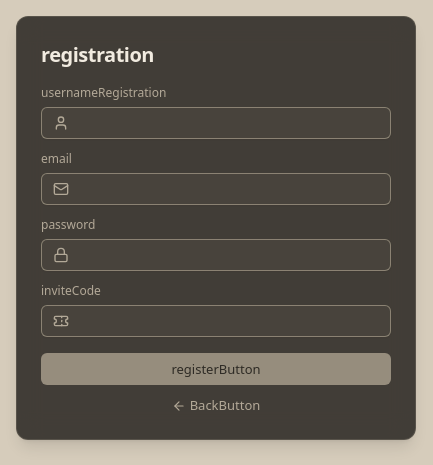
Test: Registration outcomes › replaces the form with the check-your-mail notice
Type "reader" into the field labelled "usernameRegistration" at (216, 123), box x1=41 y1=107 x2=391 y2=139
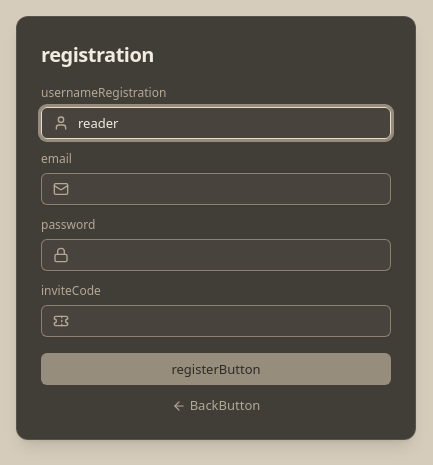
Type "reader@example.com" into the field labelled "email" at (216, 189), box x1=41 y1=173 x2=391 y2=205
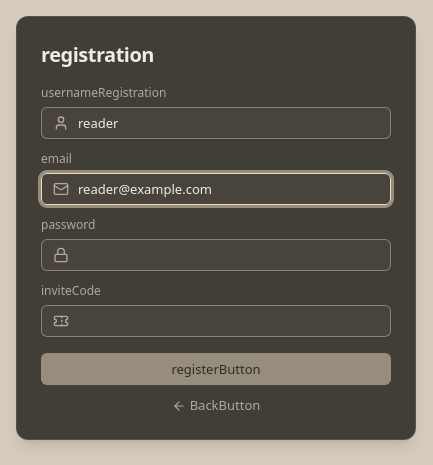
Type "secret" into the password field labelled "password" at (216, 255), box x1=41 y1=239 x2=391 y2=271
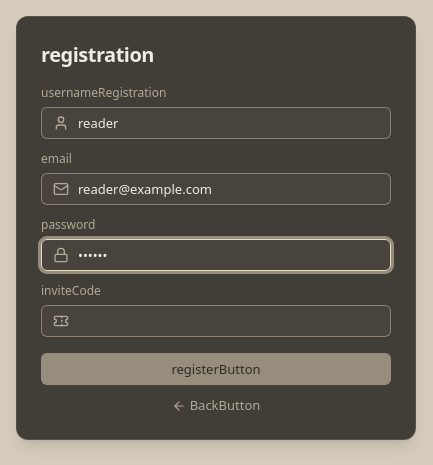
Type "invite" into the field labelled "inviteCode" at (216, 321), box x1=41 y1=305 x2=391 y2=337
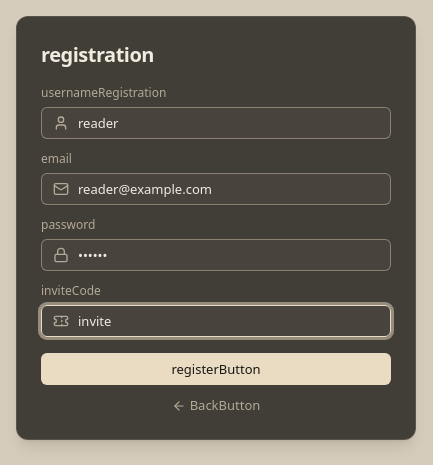
Click the button "registerButton" at (216, 369), box x1=41 y1=353 x2=391 y2=385
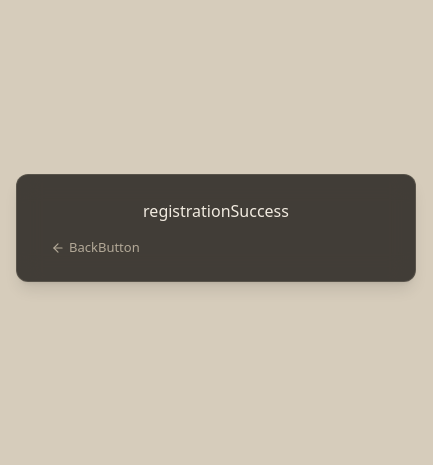
Expected: the text "registrationSuccess" is shown, x1=143 y1=200 x2=289 y2=222
Expected: the form is gone
